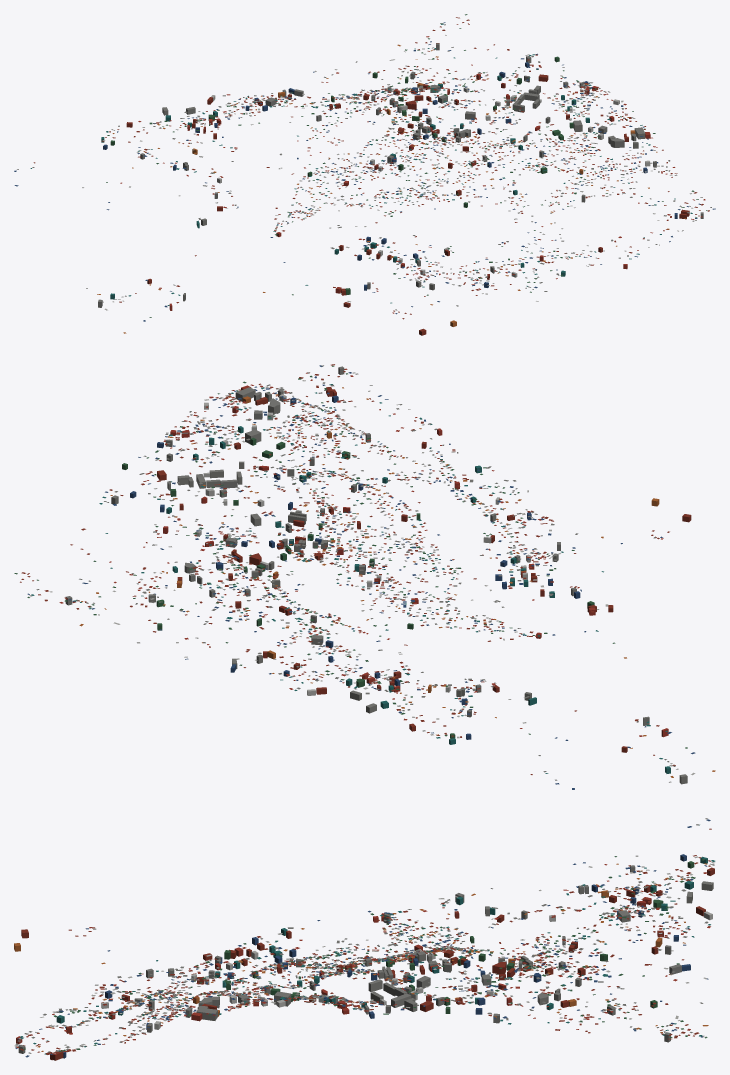
The model's file is far-14-13678-7434.b6ba0b65.glb.
3 views of the same model, one above another, from view 1: azimuth 30°, elevation 25°; view 2: azimuth 150°, elevation 25°; view 3: azimuth 270°, elevation 25° (orthographic). The views are drawn at different scales.
Bounding box in the file's own units: 2363 × 762 × 2347.
